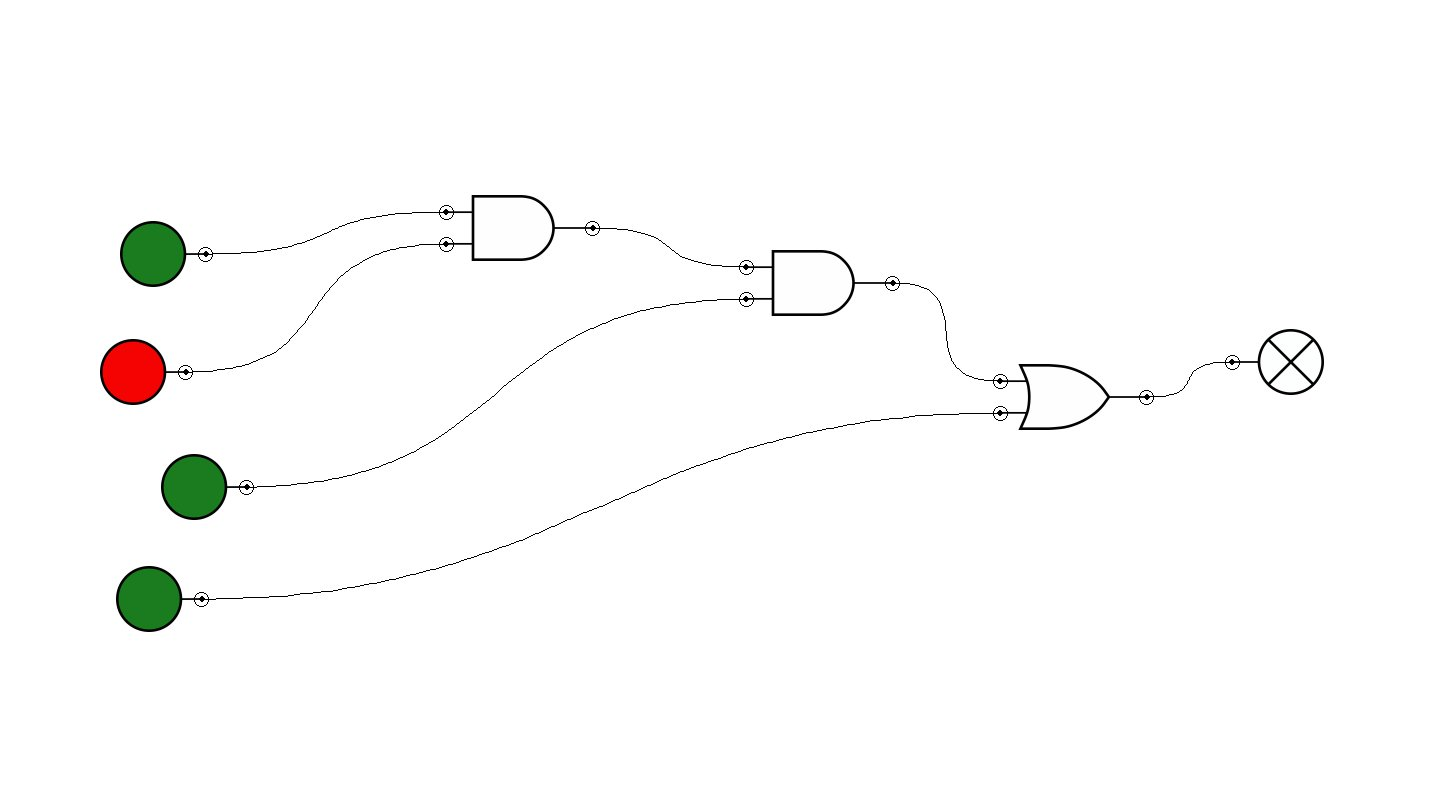and: (739, 250, 900, 316), (439, 195, 600, 261)
bulb: (1225, 329, 1324, 395)
or: (993, 364, 1154, 430)
switch_False: (100, 339, 193, 405)
switch_True: (120, 221, 213, 287), (161, 454, 254, 520), (116, 566, 209, 632)
